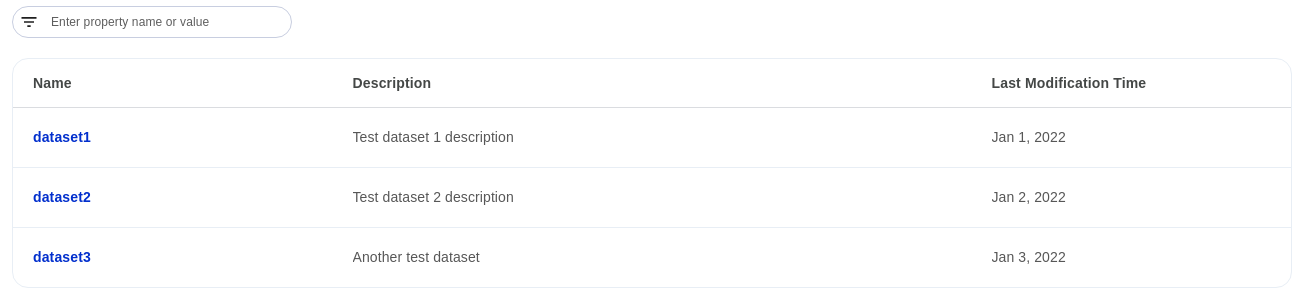
Scenario: EntryList › filters entries when pressing Enter to create a filter chip
Expected: the text "dataset1" is shown, [33,128,91,144]
Step 1. Type "dataset1" into the field with placeholder "Enter property name or value" → (167,22), box [47,9,287,35]
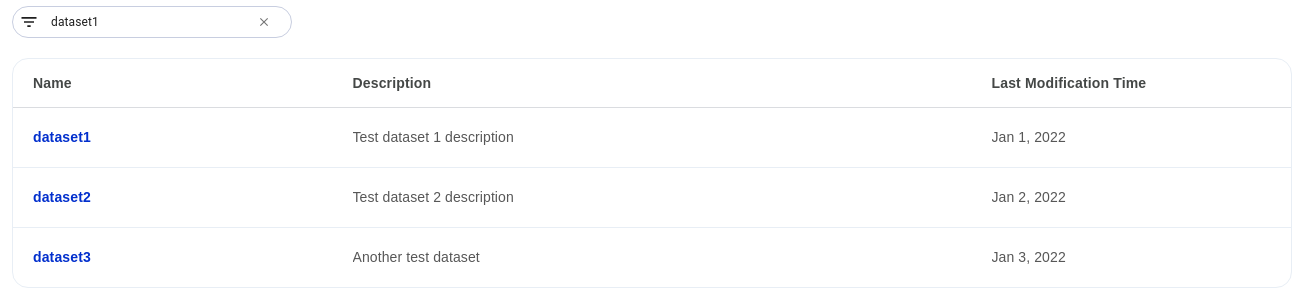
Step 2. Press Enter in the field with placeholder "Enter property name or value", box [47,9,247,35]
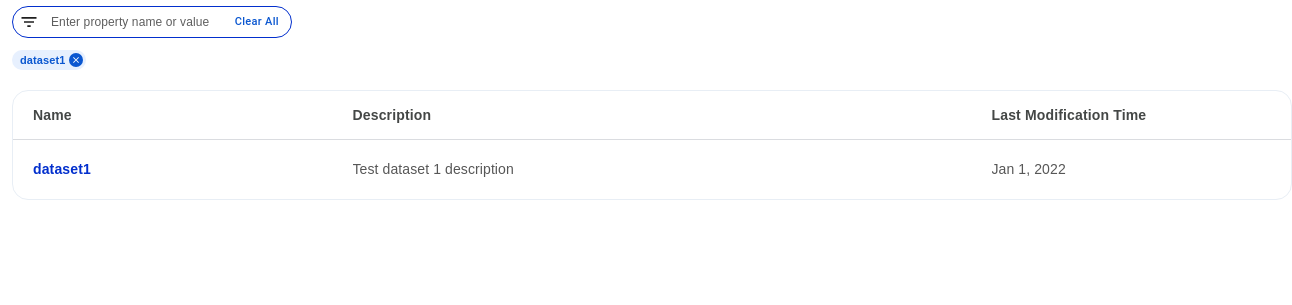
Expected: the text "dataset2" is gone
Expected: the text "dataset3" is gone
